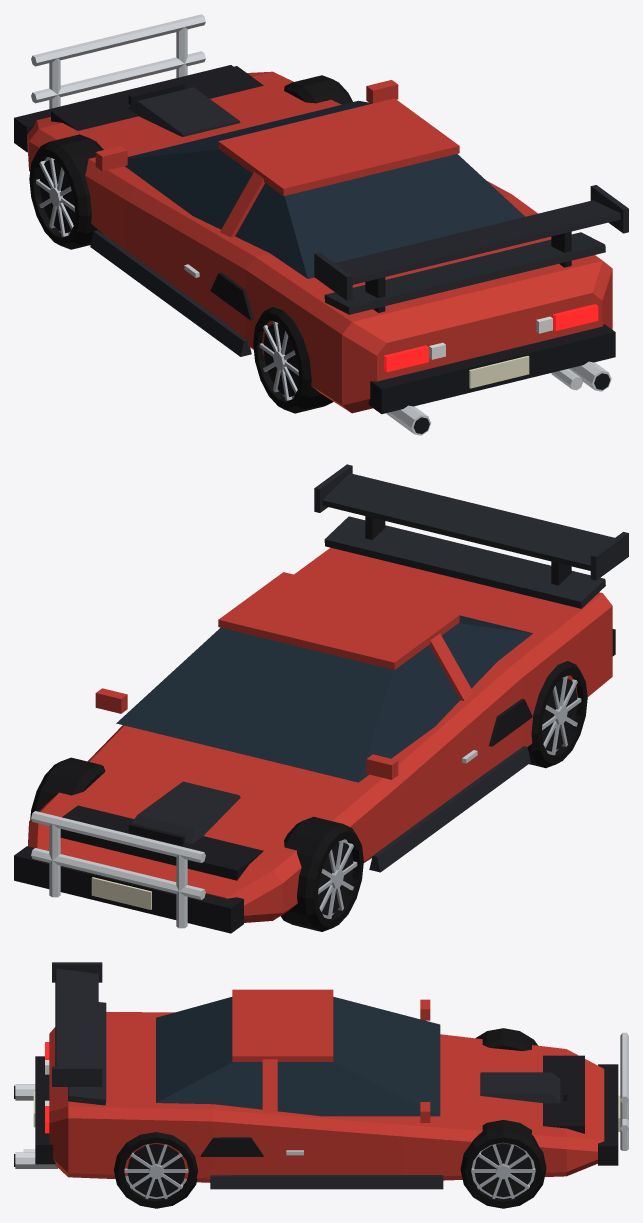
Rendered from sports.glb.
3 renders of one model, top to bottom at view 1: azimuth 30°, elevation 25°; view 2: azimuth 150°, elevation 25°; view 3: azimuth 270°, elevation 25°, orthographic. The views are drawn at different scales.
Parts seen in each view (by area): view 1: sports_Top, sports_Body, sports_Mod_Spoiler2, sports_Mod_Spoiler1, sports_Wheel_FL, sports_Mod_Bullbar, sports_Wheel_RL, sports_Mod_Scoop, sports_Mod_Skirts, sports_Mod_Exhaust, sports_Wheel_FR; view 2: sports_Top, sports_Body, sports_Mod_Spoiler2, sports_Mod_Spoiler1, sports_Wheel_FL, sports_Mod_Bullbar, sports_Wheel_RL, sports_Mod_Scoop, sports_Mod_Skirts, sports_Wheel_FR; view 3: sports_Body, sports_Top, sports_Wheel_FR, sports_Mod_Spoiler2, sports_Wheel_RR, sports_Mod_Skirts, sports_Mod_Scoop, sports_Mod_Spoiler1, sports_Mod_Bullbar, sports_Wheel_FL, sports_Mod_Exhaust.
Boxes of the visible parts, bbox=[...] form: sports_Top: bbox=[14, 65, 615, 414]; sports_Body: bbox=[27, 71, 612, 413]; sports_Mod_Spoiler2: bbox=[314, 185, 628, 312]; sports_Mod_Spoiler1: bbox=[324, 232, 605, 314]; sports_Wheel_FL: bbox=[29, 134, 103, 249]; sports_Mod_Bullbar: bbox=[31, 14, 205, 108]; sports_Wheel_RL: bbox=[253, 307, 333, 413]; sports_Mod_Scoop: bbox=[128, 82, 240, 136]; sports_Mod_Skirts: bbox=[90, 230, 251, 356]; sports_Mod_Exhaust: bbox=[386, 361, 611, 435]; sports_Wheel_FR: bbox=[284, 75, 352, 104]; sports_Top: bbox=[14, 572, 615, 933]; sports_Body: bbox=[28, 547, 612, 922]; sports_Mod_Spoiler2: bbox=[314, 464, 628, 585]; sports_Mod_Spoiler1: bbox=[324, 516, 605, 608]; sports_Wheel_FL: bbox=[280, 816, 363, 931]; sports_Mod_Bullbar: bbox=[31, 811, 205, 928]; sports_Wheel_RL: bbox=[527, 661, 587, 768]; sports_Mod_Scoop: bbox=[128, 781, 240, 845]; sports_Mod_Skirts: bbox=[369, 746, 530, 872]; sports_Wheel_FR: bbox=[30, 757, 105, 819]; sports_Body: bbox=[49, 1012, 604, 1182]; sports_Top: bbox=[23, 989, 620, 1165]; sports_Wheel_FR: bbox=[460, 1120, 546, 1208]; sports_Mod_Spoiler2: bbox=[52, 962, 102, 1086]; sports_Wheel_RR: bbox=[114, 1132, 197, 1208]; sports_Mod_Skirts: bbox=[210, 1175, 443, 1189]; sports_Mod_Scoop: bbox=[480, 1072, 567, 1103]; sports_Mod_Spoiler1: bbox=[68, 1002, 106, 1105]; sports_Mod_Bullbar: bbox=[620, 1032, 628, 1150]; sports_Wheel_FL: bbox=[475, 1028, 537, 1050]; sports_Mod_Exhaust: bbox=[14, 1084, 57, 1168].
Bounding box in the file's own units: 2.1 × 1.24 × 4.88.
